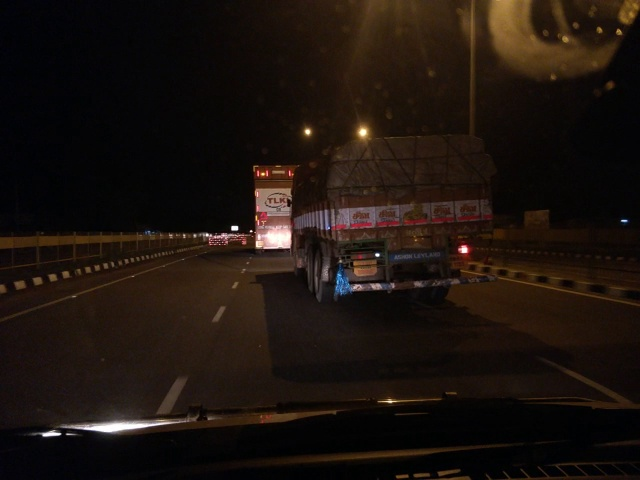bus: (248, 159, 294, 250)
truck: (296, 141, 499, 302)
